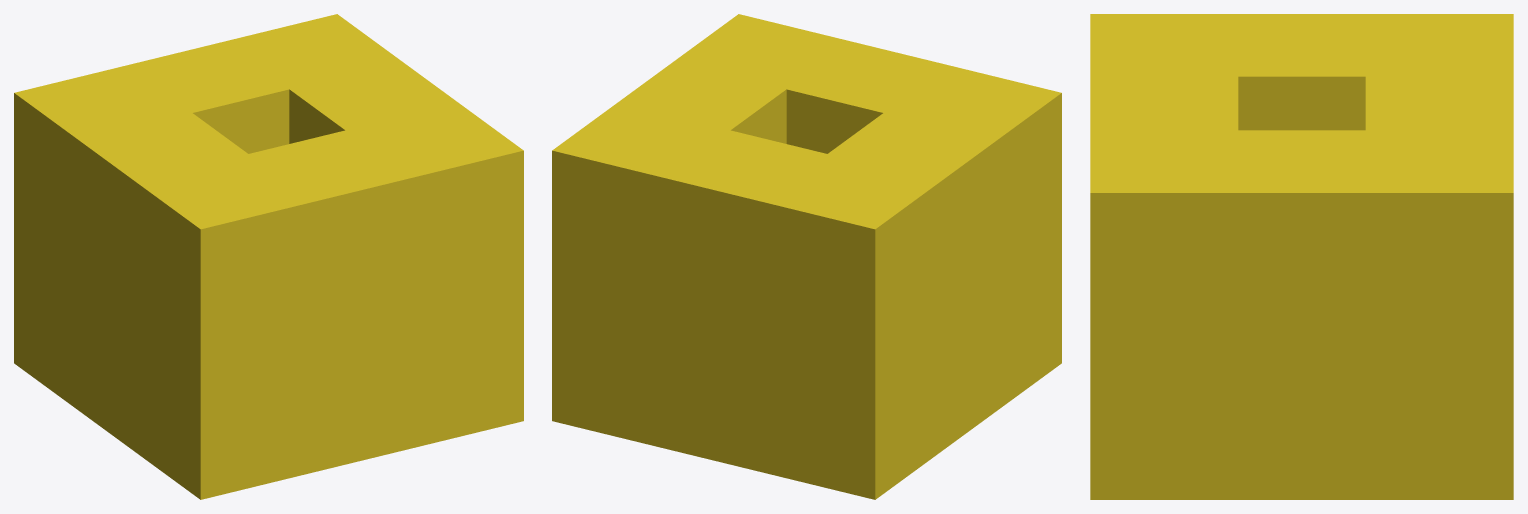
The model's file is insert_task_block2.dae.
3 views of the same model, side by side, from view 1: azimuth 30°, elevation 25°; view 2: azimuth 150°, elevation 25°; view 3: azimuth 270°, elevation 25° (orthographic). The views are drawn at different scales.
Visible parts, largest first — view 1: Cube; view 2: Cube; view 3: Cube.
Part boxes in pixels (left/top/right/bottom): Cube: left=14, top=14, right=523, bottom=499; Cube: left=552, top=14, right=1061, bottom=499; Cube: left=1090, top=14, right=1513, bottom=499.
Bounding box in the file's own units: 0.2 × 0.2 × 0.16.
